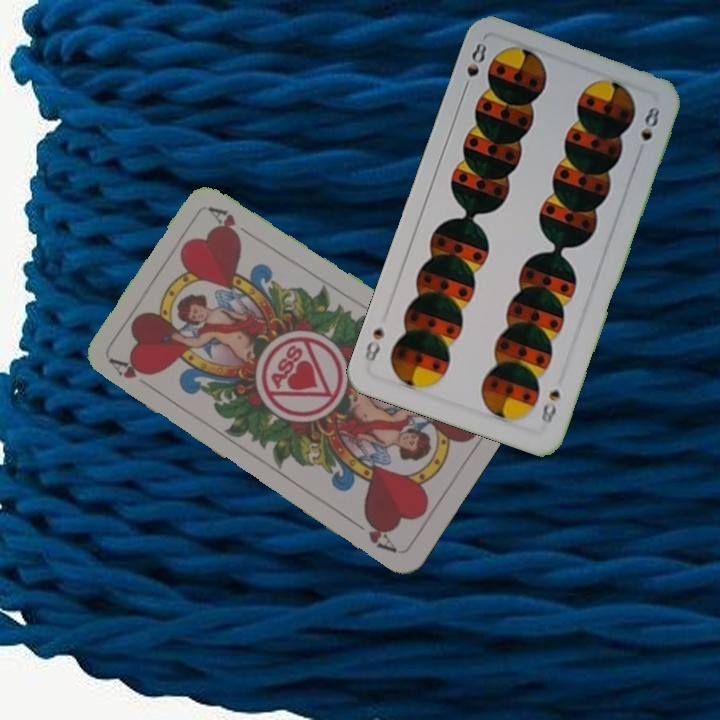HA: (107, 355, 149, 382)
S8: (459, 38, 490, 95), (537, 385, 563, 427)
